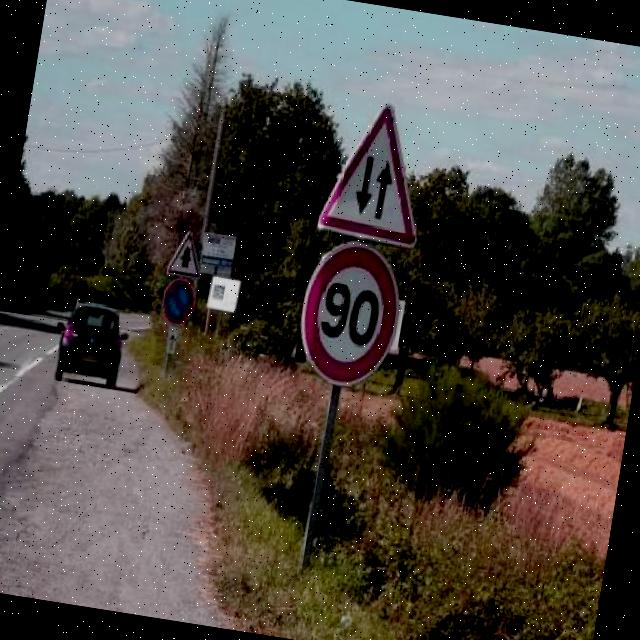Ograniczenie predkosci do 90: (299, 237, 404, 393)
